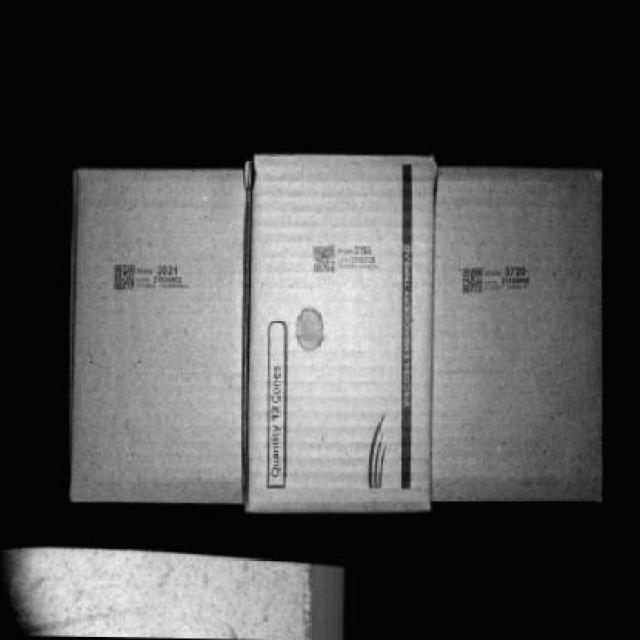box: (252, 157, 434, 514), (72, 162, 248, 502), (435, 167, 611, 506)
